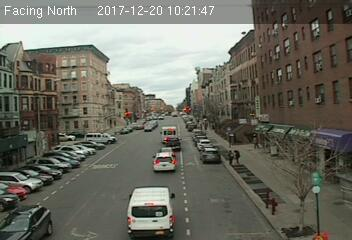car: (152, 150, 178, 171), (200, 147, 220, 163), (163, 136, 181, 151)
truck: (127, 186, 177, 235), (161, 126, 177, 142)
